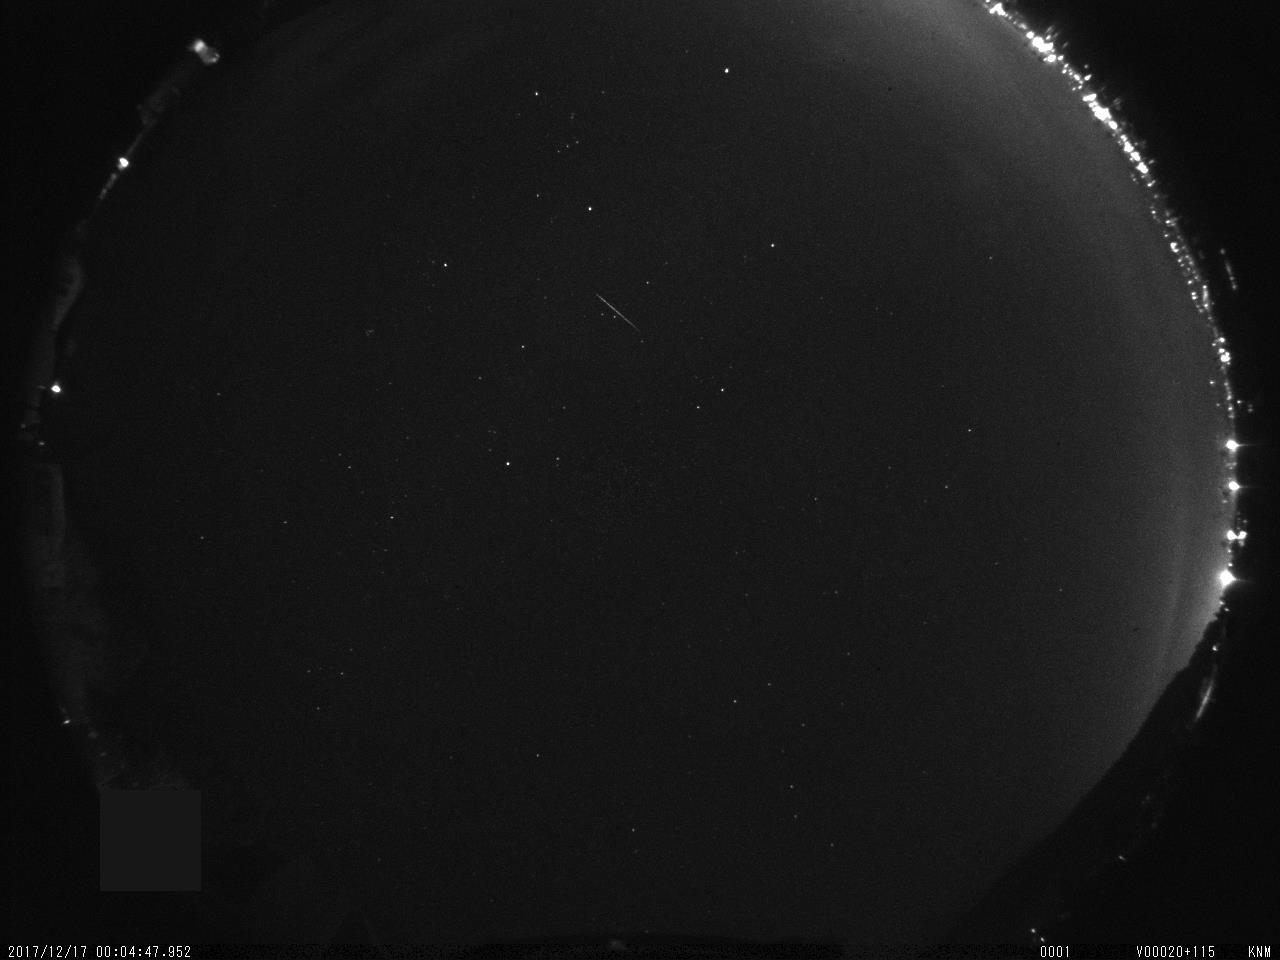meteor: (585, 279, 651, 335)
